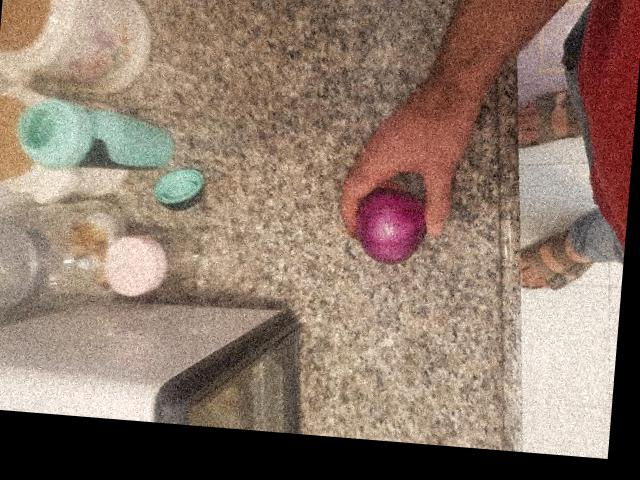onion: (353, 175, 435, 263)
